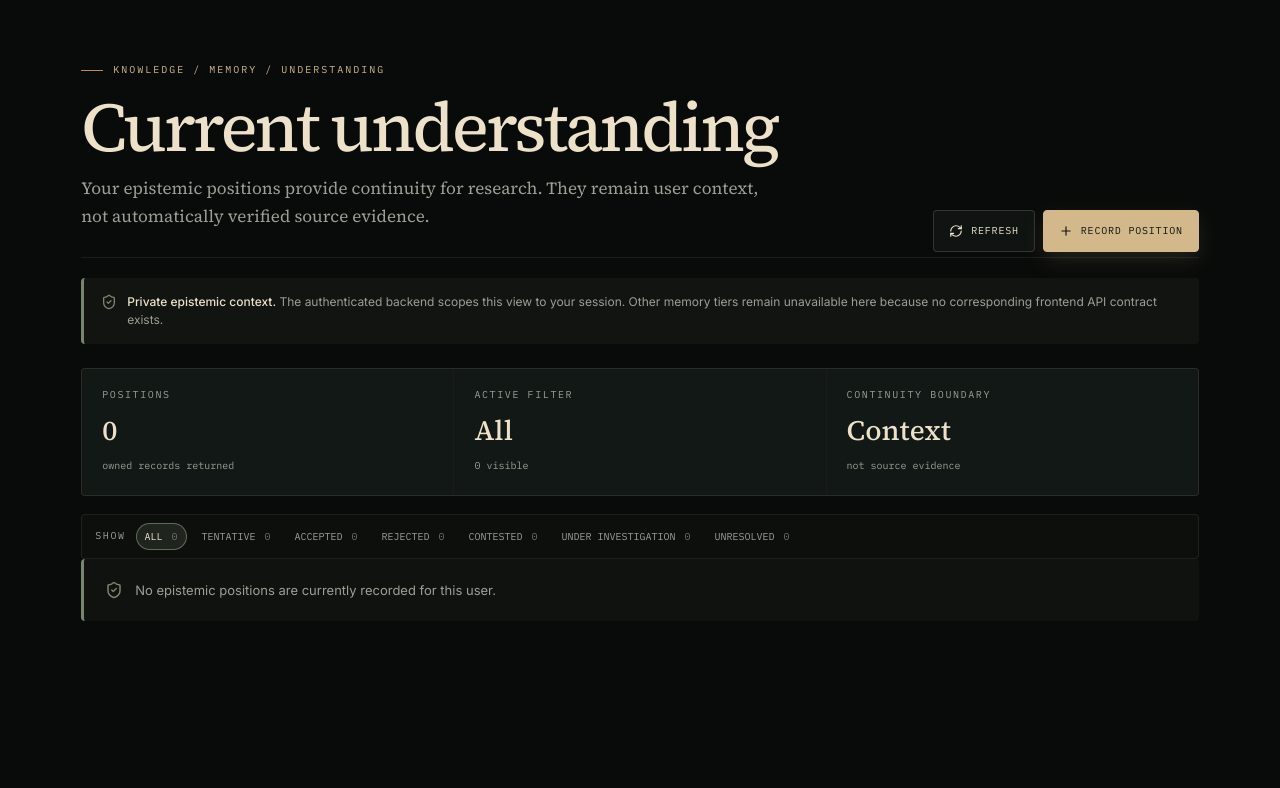
memory and understanding view › records a position with the authenticated owner supplied by the app
The width and height of the screenshot is (1280, 788).
Click the button "Record position". click: (1121, 231)
box: [1043,210,1199,252]
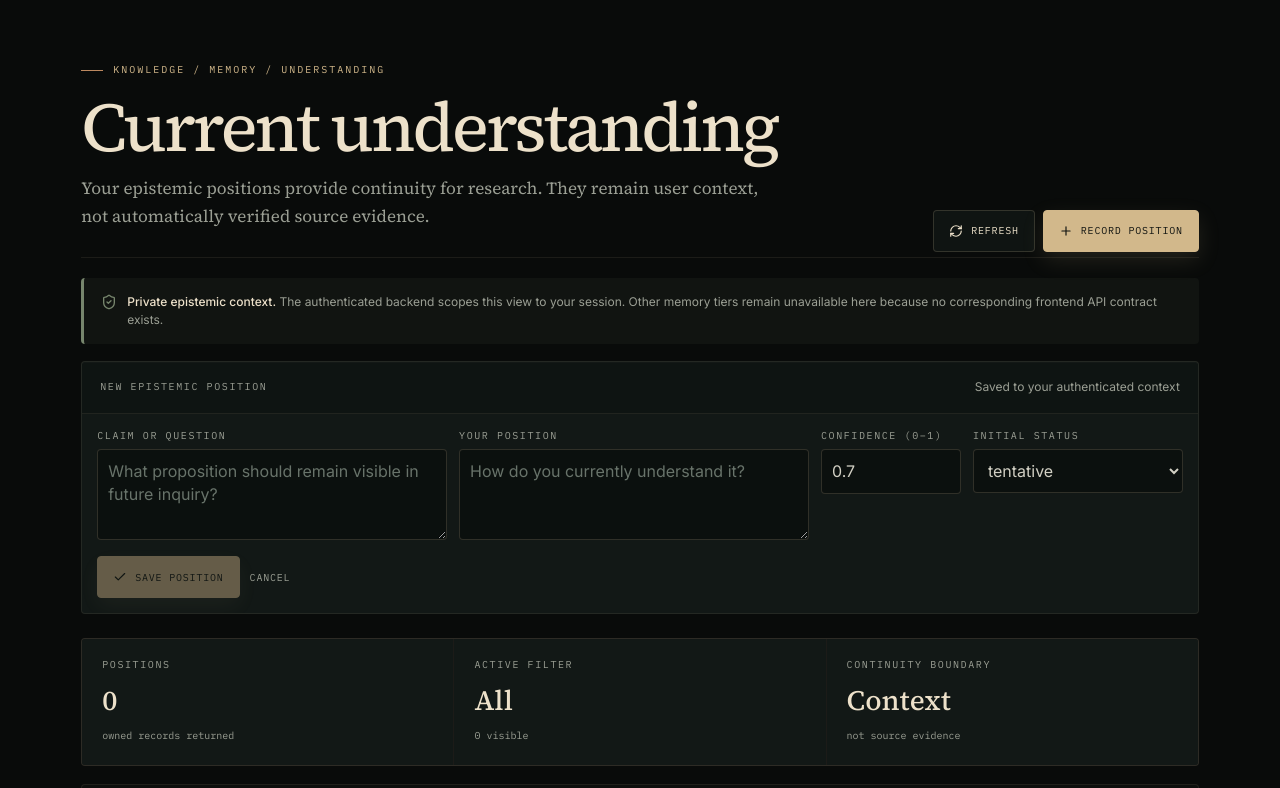
Type "A newly recorded claim." into the text box labelled "Claim or question". click: (272, 495)
box: [97,449,447,540]
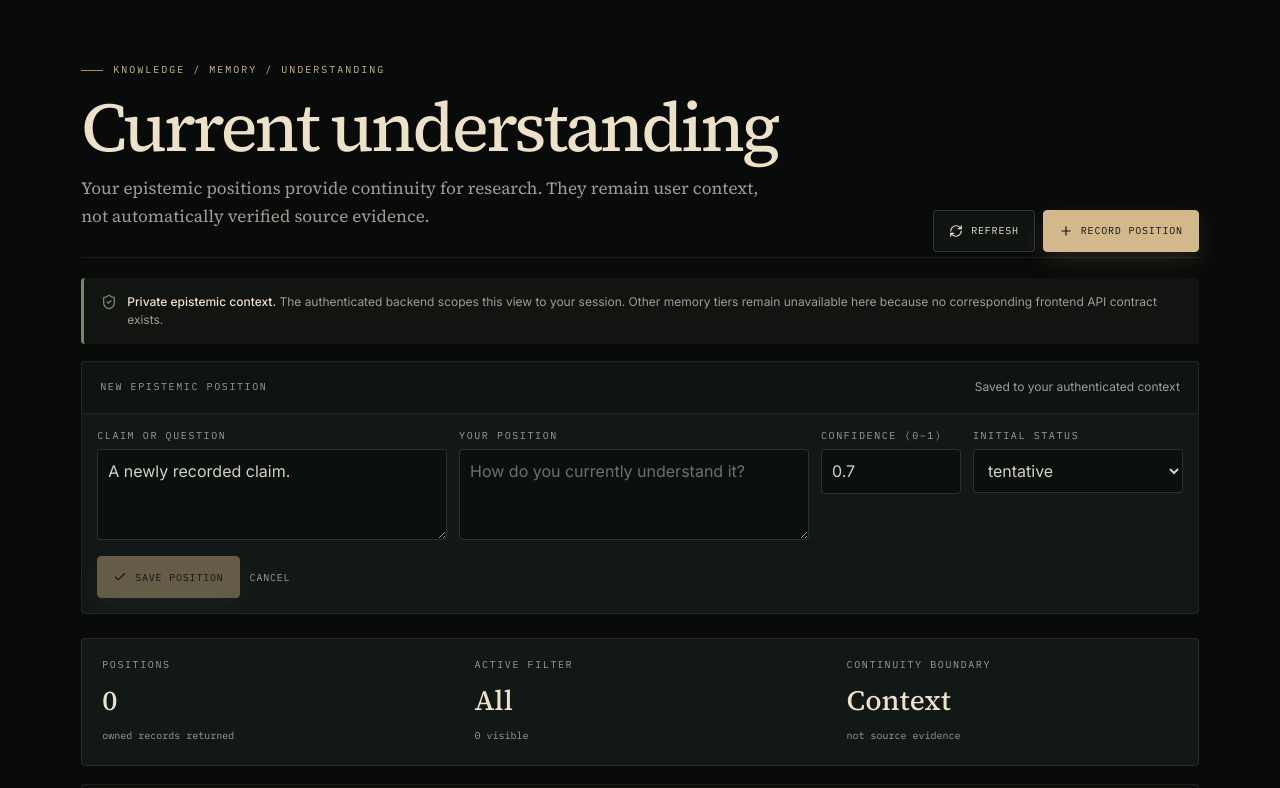
Type "This is currently unresolved." into the text box labelled "Your position". click: (634, 495)
box: [459,449,809,540]
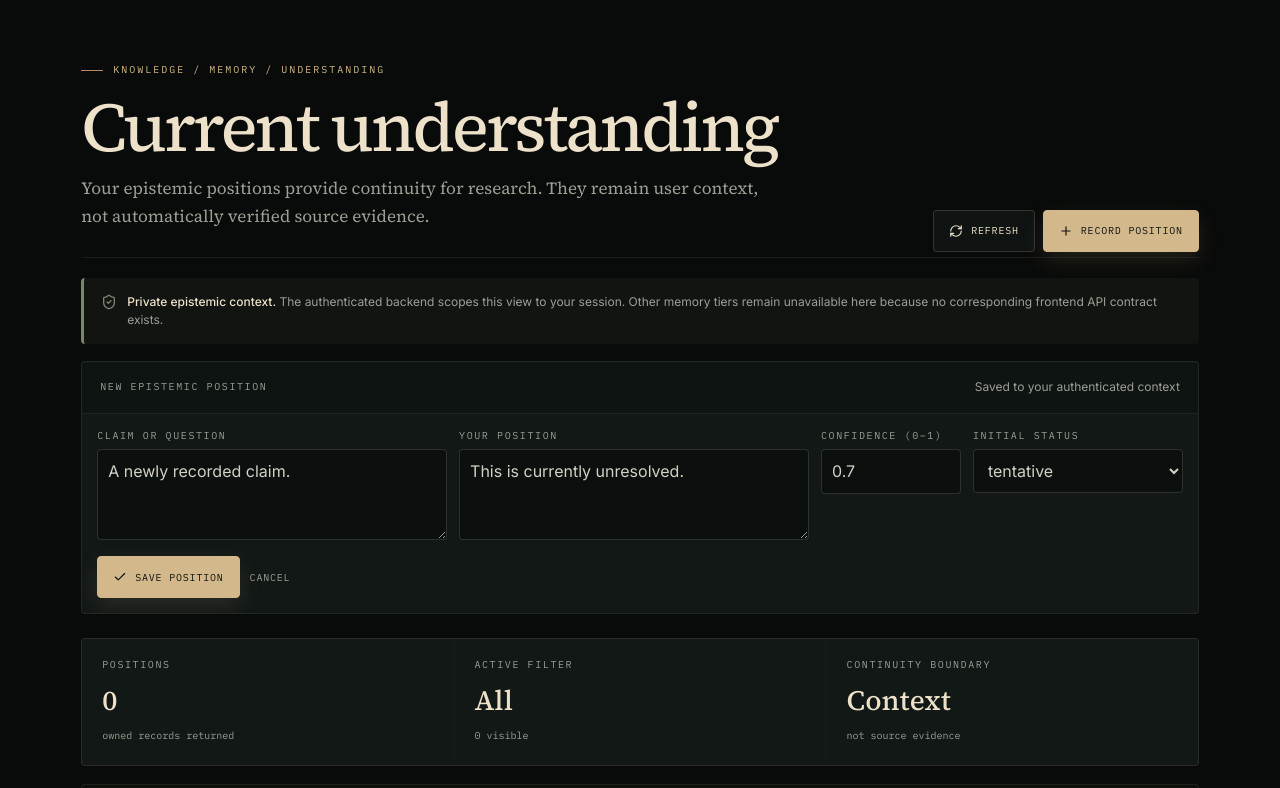
Click the button "Save position". click: (168, 577)
box: [97,556,240,598]
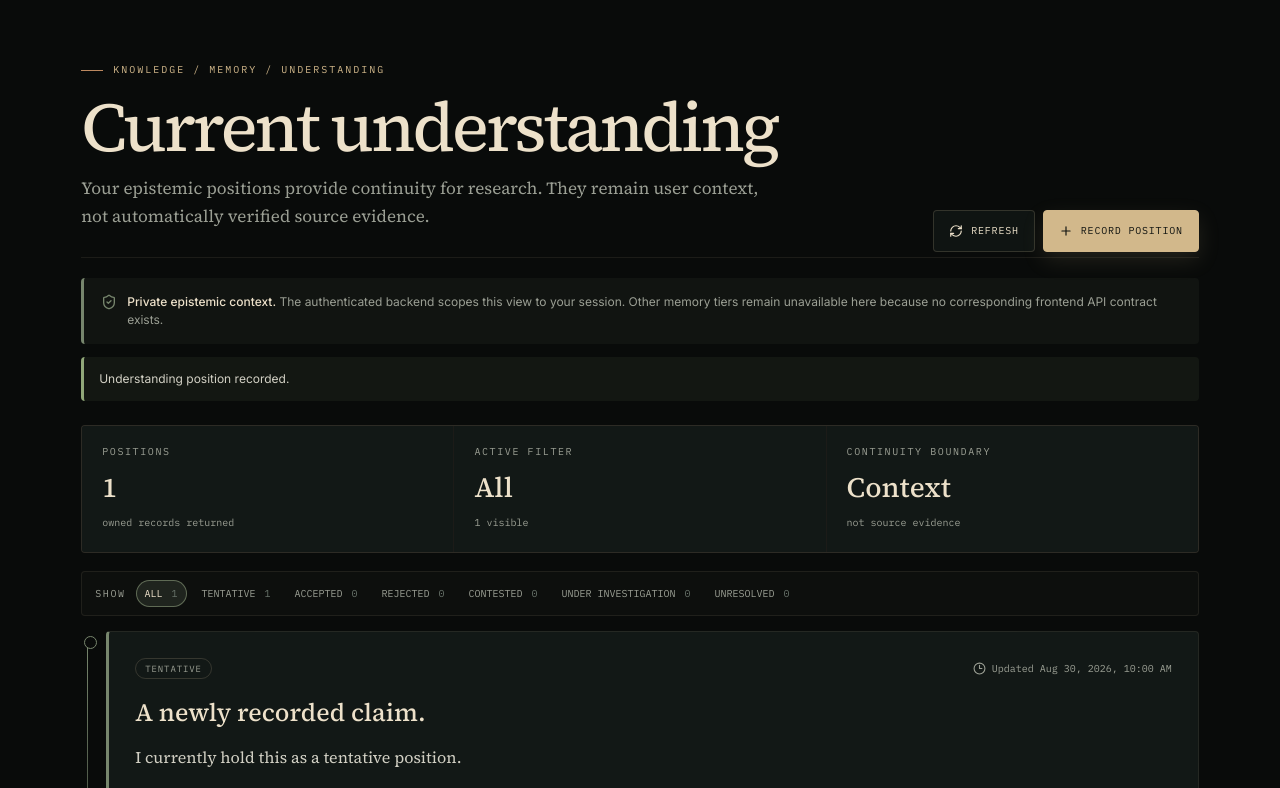
Now the text "Understanding position recorded." is shown, box [81,357,1199,401]
